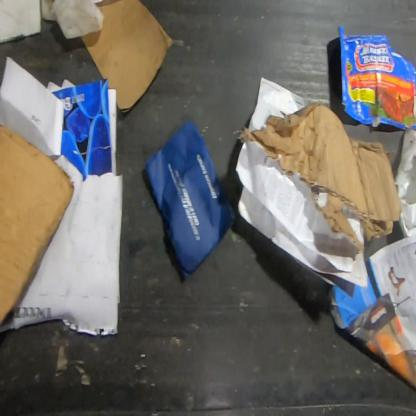cardboard: (235, 101, 404, 254), (0, 122, 76, 332), (80, 0, 174, 116), (338, 23, 416, 131)
soft_plastic: (395, 127, 415, 239)
